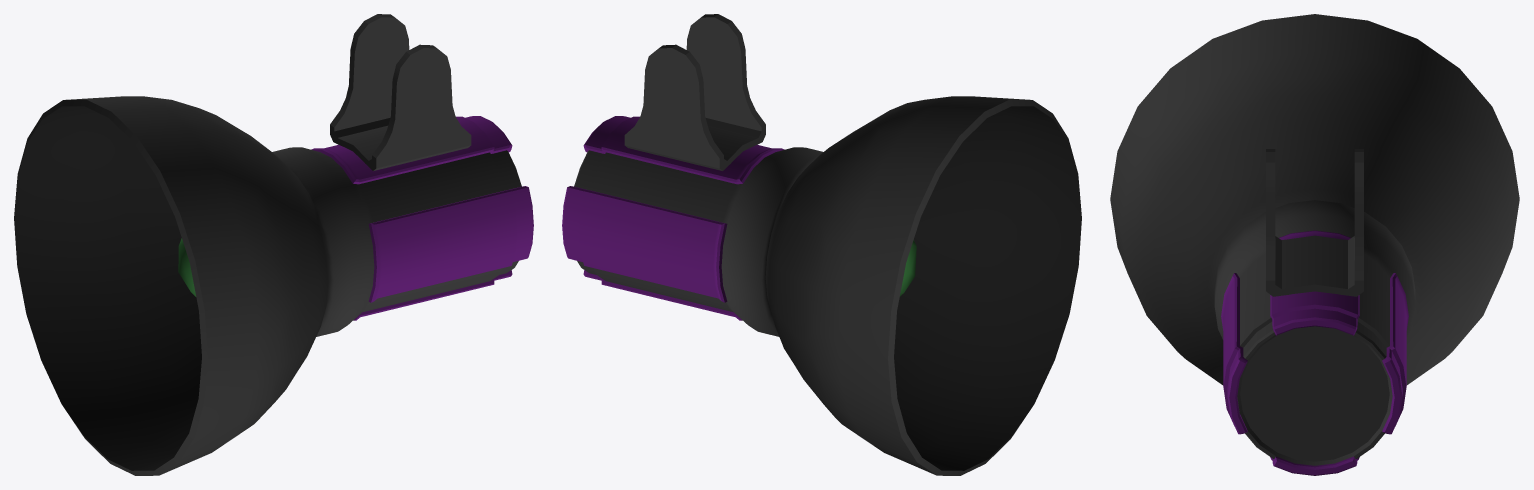
The model's file is HangingSpotLight_01_Mesh.fbx.
3 views of the same model, side by side, from view 1: azimuth 30°, elevation 25°; view 2: azimuth 150°, elevation 25°; view 3: azimuth 270°, elevation 25° (orthographic). The views are drawn at different scales.
Visible parts, largest first — view 1: HangingSpotLight_01_Mesh; view 2: HangingSpotLight_01_Mesh; view 3: HangingSpotLight_01_Mesh.
Part boxes in pixels (x1,y1,x2,y2): HangingSpotLight_01_Mesh: [14, 14, 533, 475]; HangingSpotLight_01_Mesh: [562, 14, 1081, 475]; HangingSpotLight_01_Mesh: [1110, 14, 1519, 475].
Bounding box in the file's own units: 54.38 × 48.71 × 47.31.
